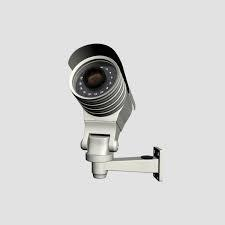tutu: (59, 38, 146, 149)
